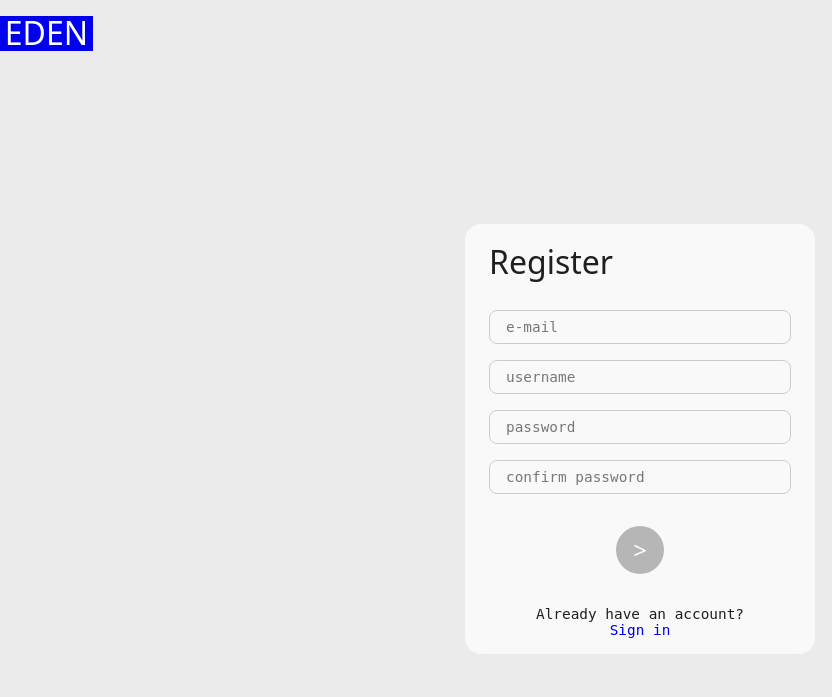
Scenario: RegisterPage › submits registration details to the backend and shows success
Type "emma@example.com" into the field named "Email".
click(640, 327); type("emma@example.com")  # box [489,310,791,344]
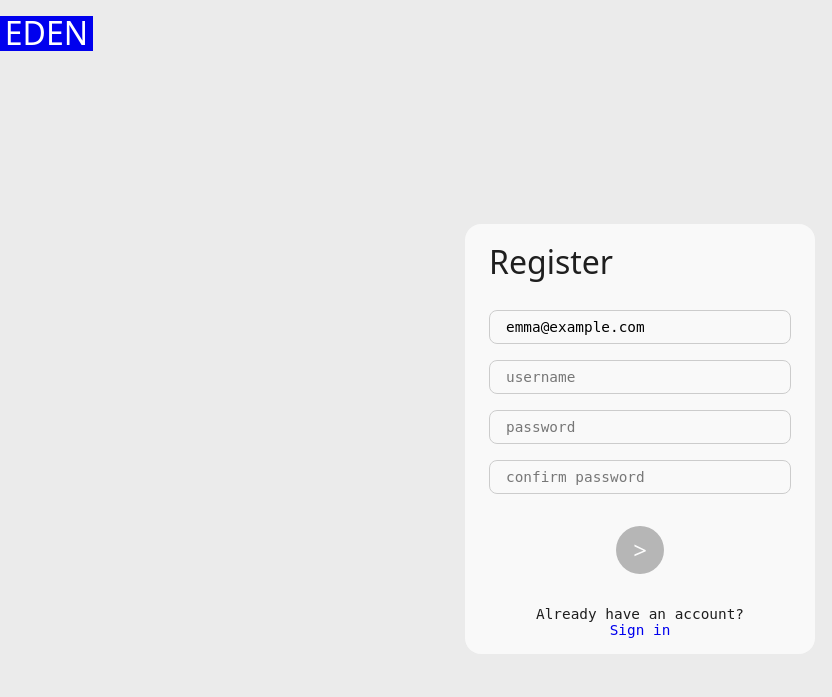
Type "emma" into the field labelled "username".
click(640, 377); type("emma")  # box [489,360,791,394]
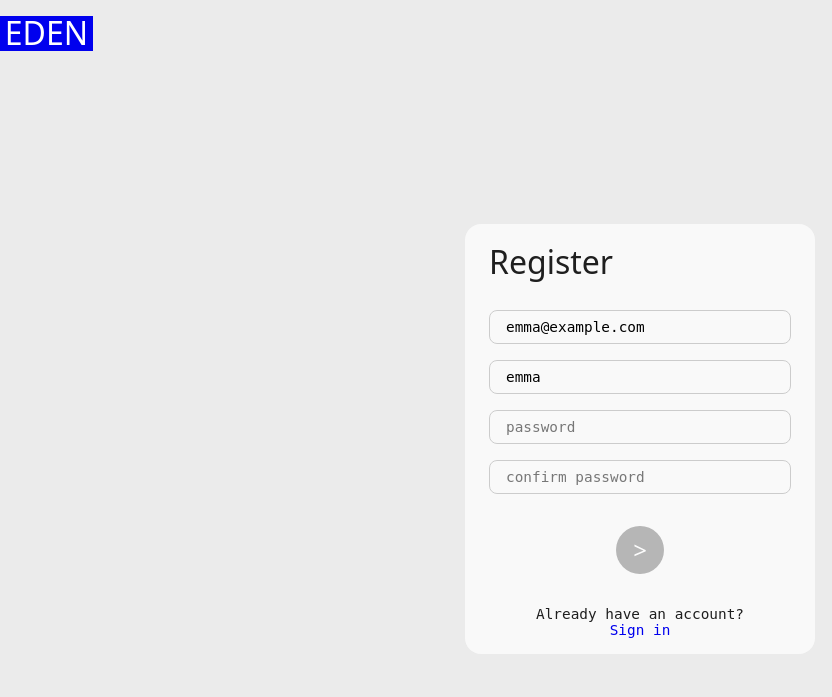
Type "Password123!" into the password field labelled "password".
click(640, 427); type("Password123!")  # box [489,410,791,444]
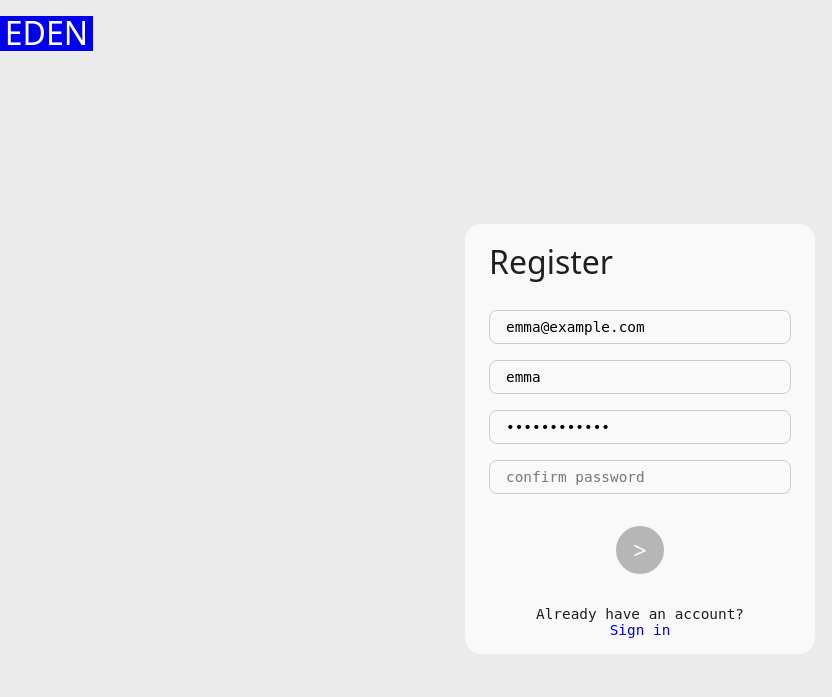
Type "Password123!" into the password field labelled "confirm password".
click(640, 477); type("Password123!")  # box [489,460,791,494]
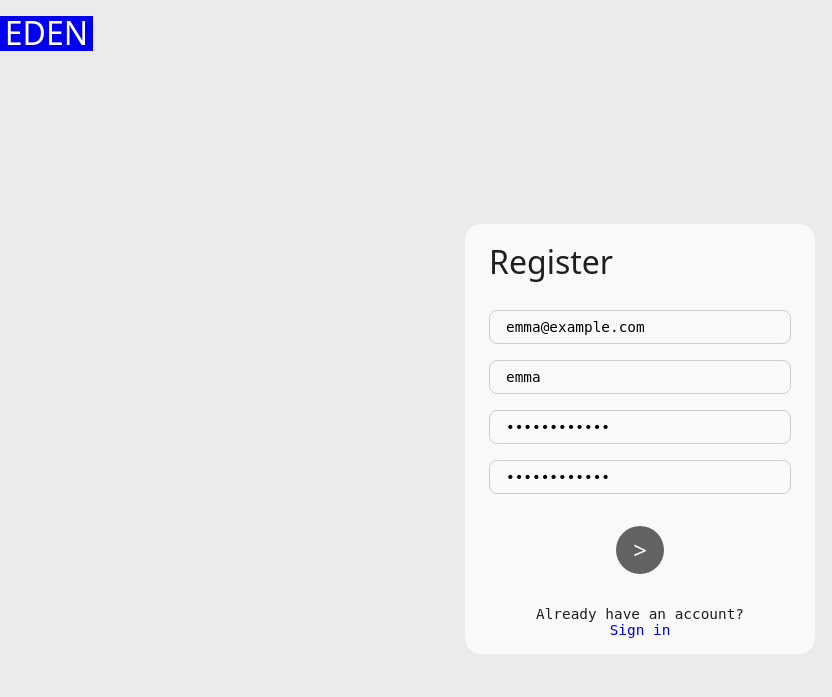
Click the button named "Create account".
click(640, 550)  # box [616,526,664,574]
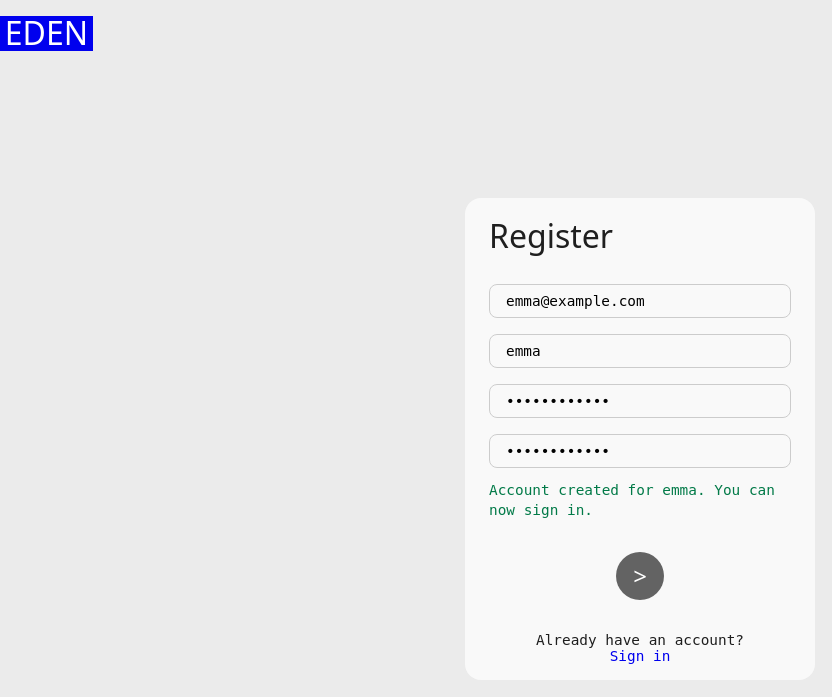
Now the message reads "Account created for emma. You can now sign in.", box [489,480,791,520]
